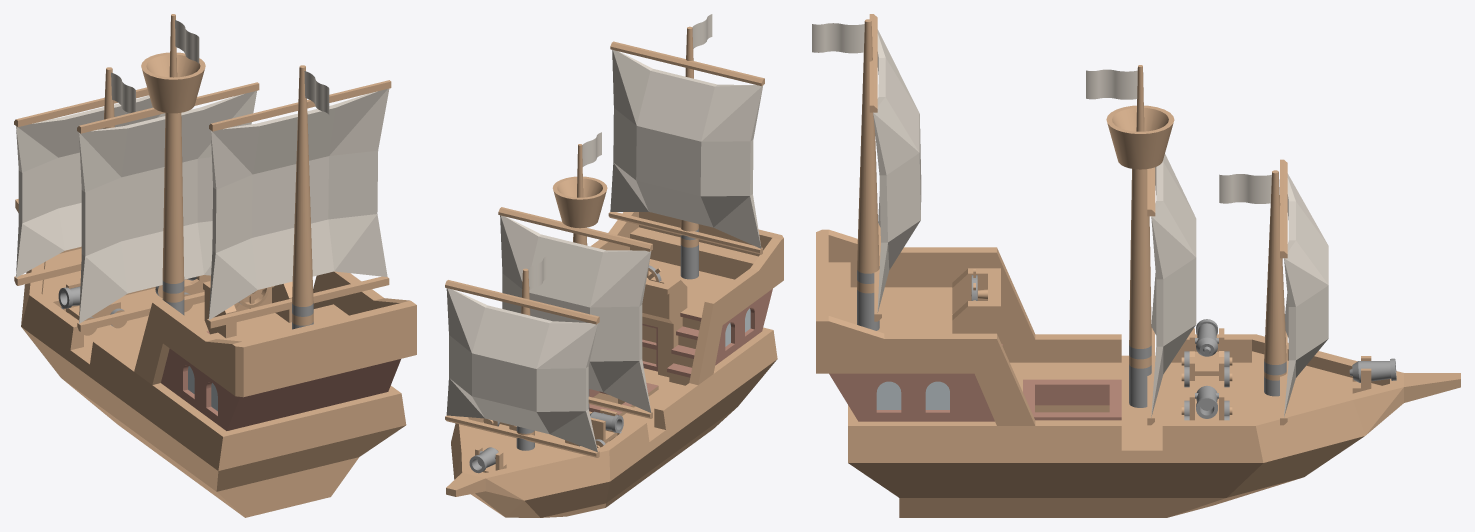
The model's file is Ship2.glb.
The picture shows the model from 3 angles, left to right: view 1: azimuth 30°, elevation 25°; view 2: azimuth 150°, elevation 25°; view 3: azimuth 270°, elevation 25°; orthographic projection. The views are drawn at different scales.
Visible parts, largest first — view 1: Wood, Textile, WoodDark, Iron; view 2: Textile, Wood, WoodDark, Iron; view 3: Wood, Textile, WoodDark, Iron, Window.
Boxes of the visible parts, x1,y1,x2,y2 form: Wood: [14, 14, 416, 517]; Textile: [16, 20, 389, 323]; WoodDark: [161, 331, 400, 430]; Iron: [58, 276, 313, 329]; Textile: [446, 14, 763, 452]; Wood: [445, 26, 783, 517]; WoodDark: [589, 289, 772, 415]; Iron: [469, 228, 698, 473]; Wood: [816, 14, 1460, 517]; Textile: [812, 23, 1328, 417]; WoodDark: [829, 344, 1121, 421]; Iron: [857, 270, 1396, 420]; Window: [876, 381, 949, 409].
Size of the model in its own units: 2.85 by 6.55 by 8.1.
